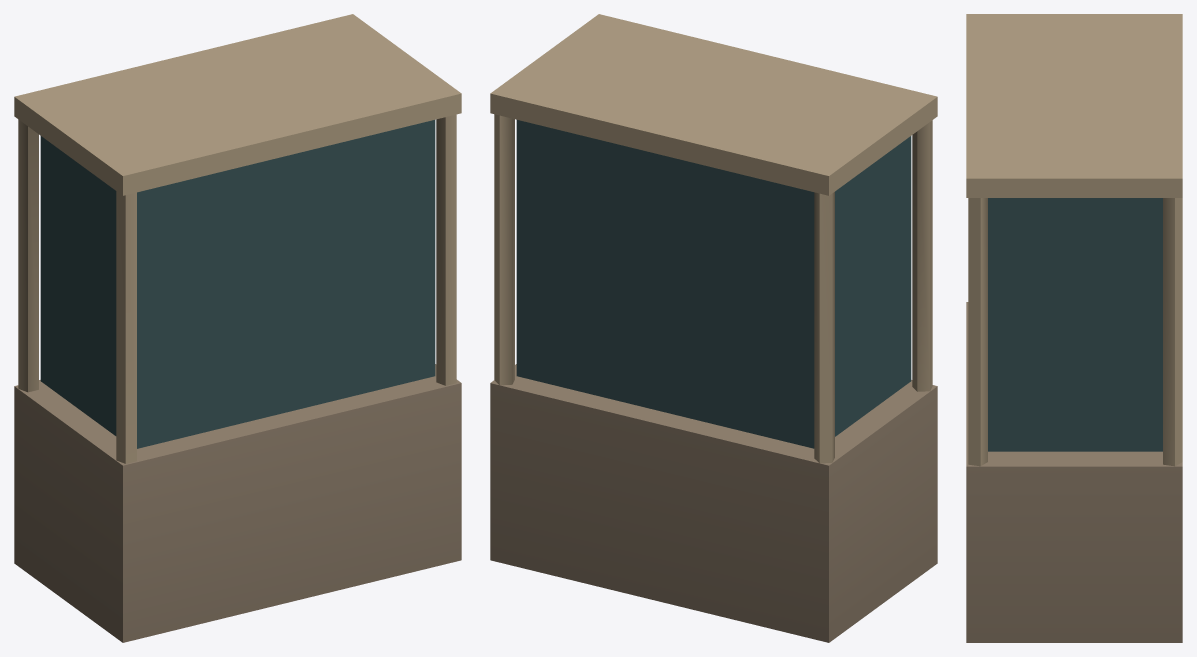
The model's file is hub_tank.glb.
3 views of the same model, side by side, from view 1: azimuth 30°, elevation 25°; view 2: azimuth 150°, elevation 25°; view 3: azimuth 270°, elevation 25° (orthographic).
Parts seen in each view (by area): view 1: hub_tank; view 2: hub_tank; view 3: hub_tank.
Part boxes in pixels (x1,y1,x2,y2): hub_tank: (14,14,461,642); hub_tank: (490,14,937,642); hub_tank: (966,14,1182,642).
Size of the model in its own units: 1.8 by 2.37 by 1.
